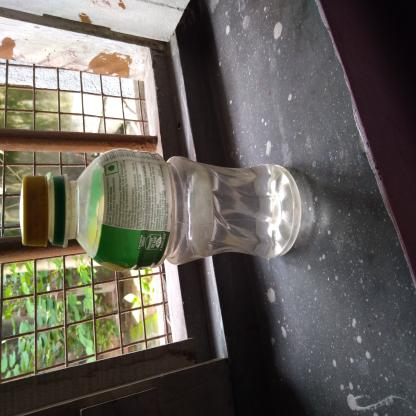bottle: (107, 22, 202, 405)
